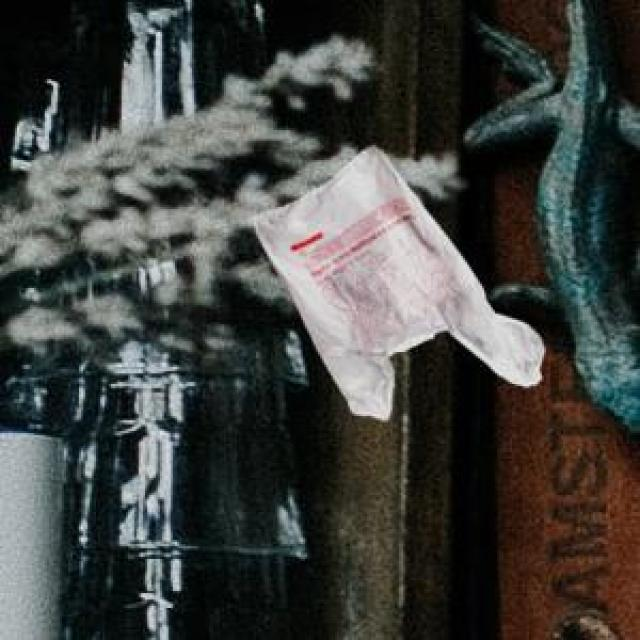waste: (254, 148, 545, 419)
